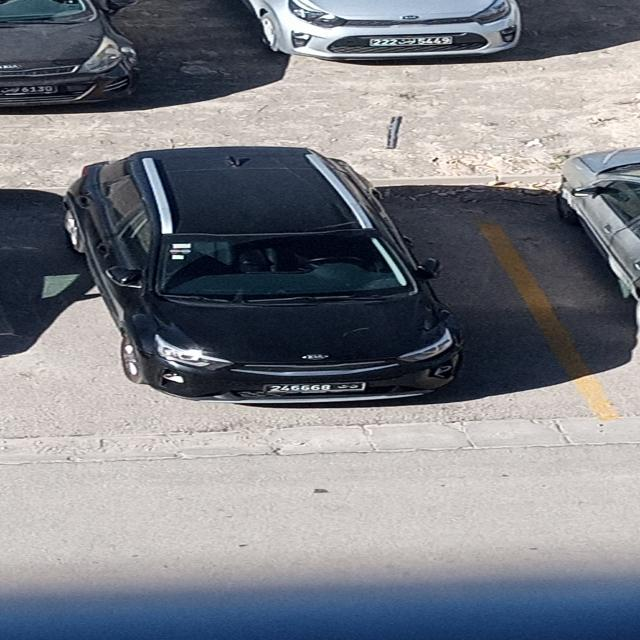licence plate: (267, 383, 362, 391)
